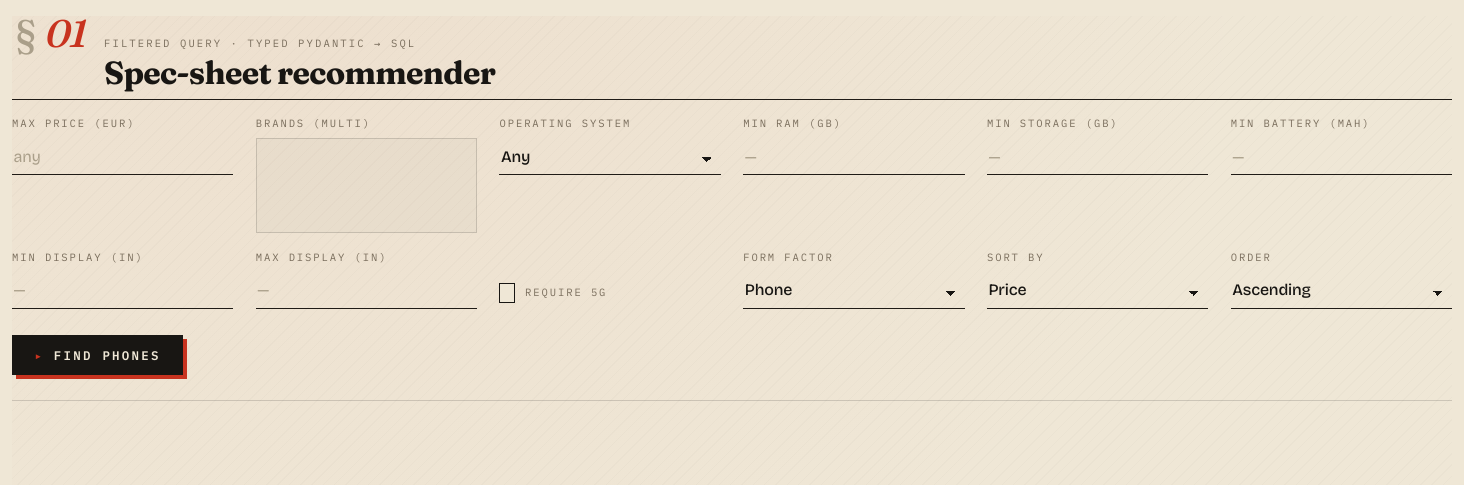
Test: RecommendView › shows error banner on backend failure
Click the button "Find phones". click: click(98, 355)
box: 12,335 -> 183,375
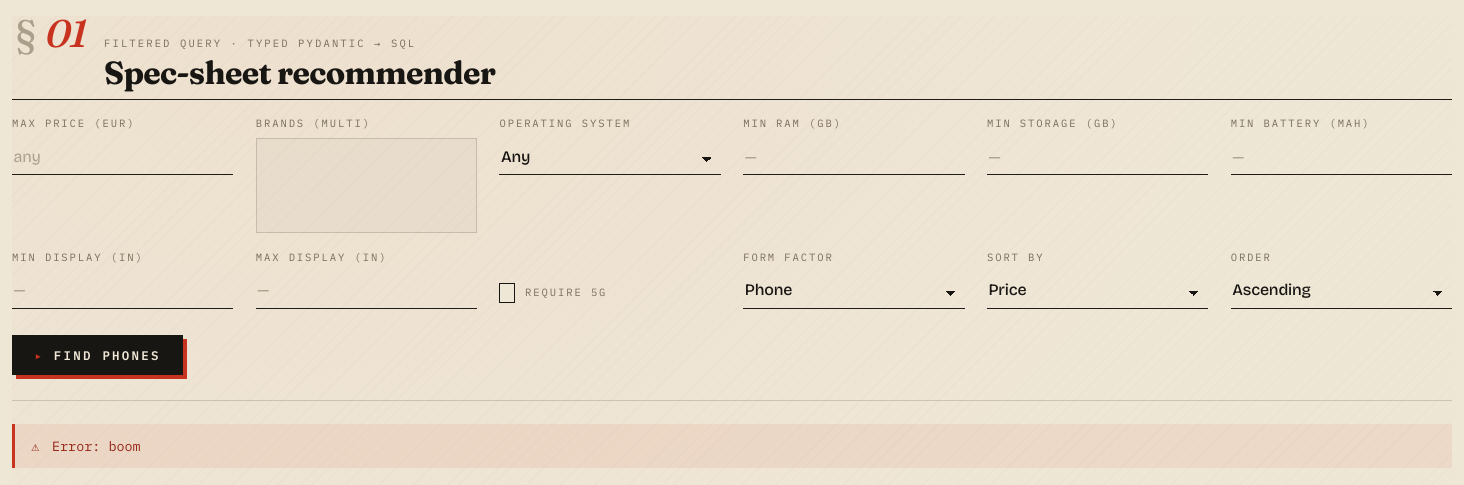
Result: the text "Error: boom" is shown at 12,424 -> 1452,468
